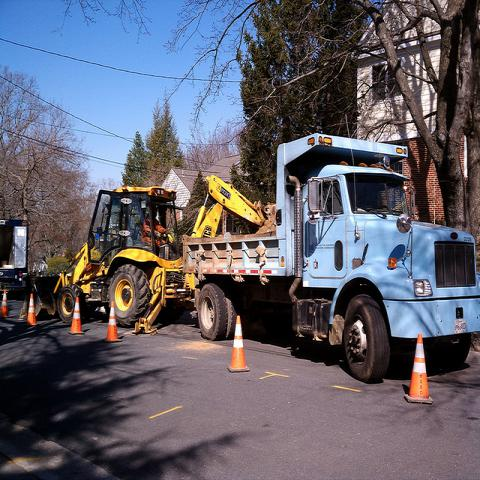truck: (183, 130, 479, 386), (0, 218, 29, 291)
